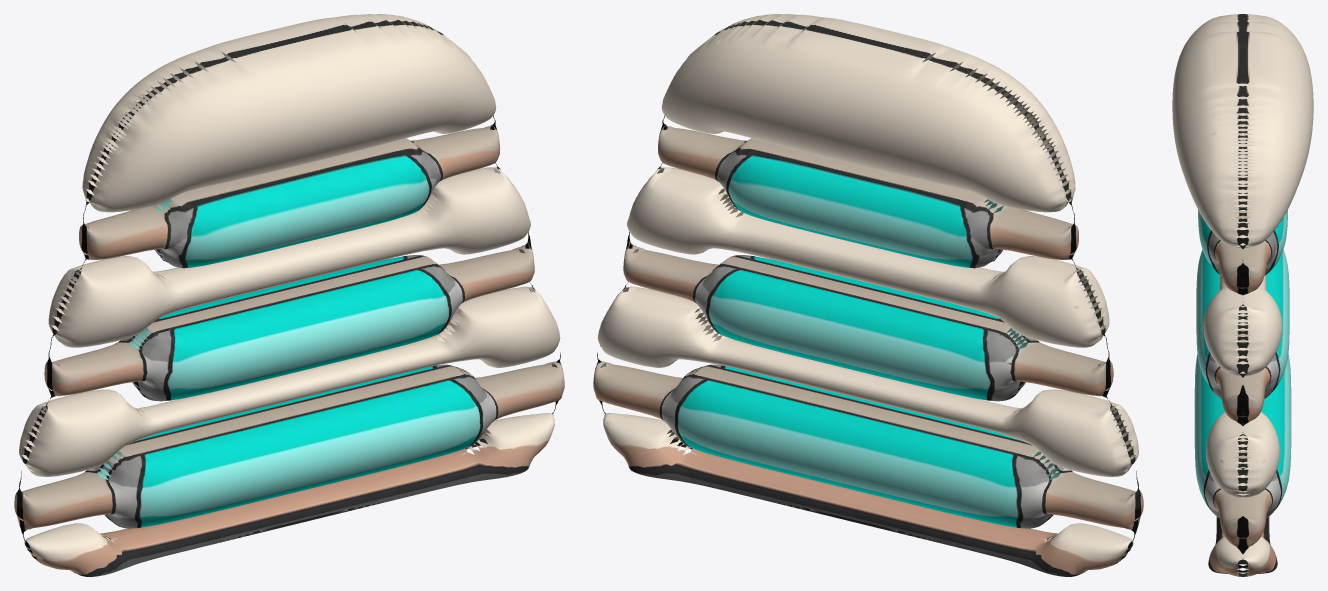
File: rear_housing.glb
3 renders of one model, left to right at view 1: azimuth 30°, elevation 25°; view 2: azimuth 150°, elevation 25°; view 3: azimuth 270°, elevation 25°, orthographic. The views are drawn at different scales.
Parts seen in each view (by area): view 1: rear_housing; view 2: rear_housing; view 3: rear_housing.
Part boxes in pixels (x1,y1,x2,y2): rear_housing: (14, 14, 564, 576); rear_housing: (593, 14, 1143, 576); rear_housing: (1172, 14, 1313, 576).
Bounding box in the file's own units: 0.991 × 0.8216 × 0.2515.
1 material, 1 textured.
